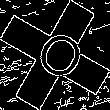O_SW: (24, 22, 86, 88)
